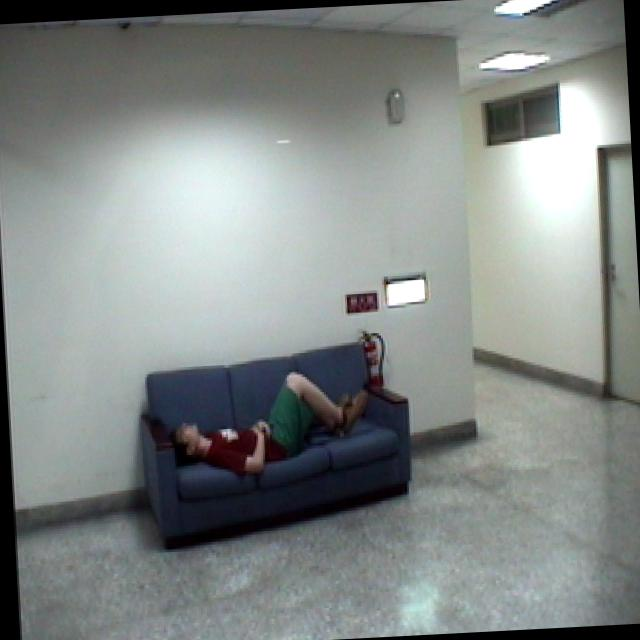lie: (166, 358, 381, 478)
